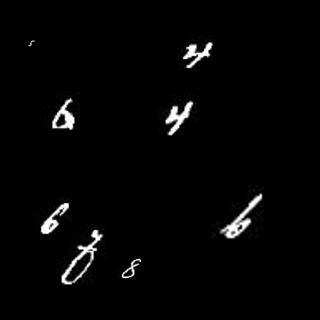eight: (120, 257, 140, 278)
five: (27, 38, 35, 47)
four: (163, 99, 197, 135), (183, 38, 213, 70)
six: (224, 193, 265, 235), (47, 97, 80, 131), (41, 199, 70, 235)
zero: (61, 250, 96, 287)
